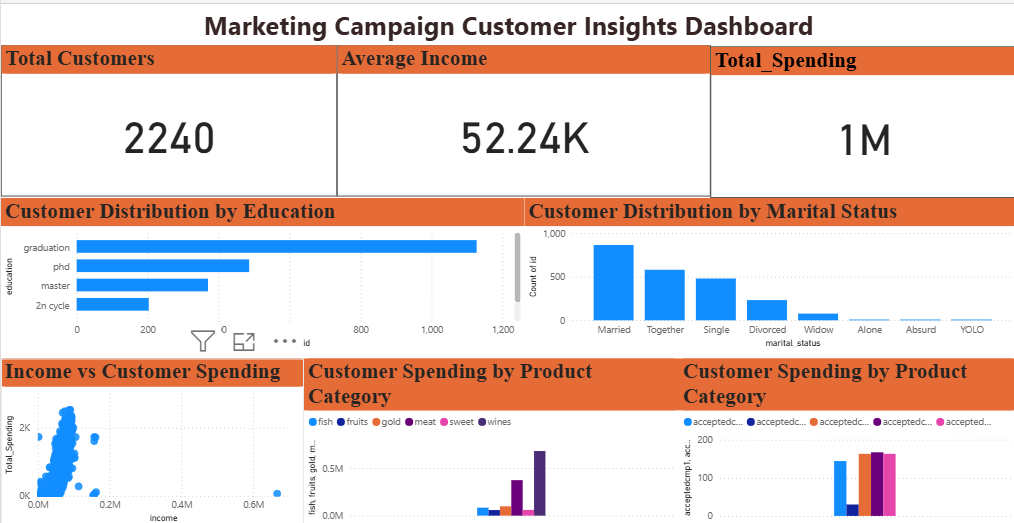

This screenshot's page, from the dashboard's own definition file:
{"tool":"powerbi","page":{"name":"Page 1","canvas":[1280,720],"ordinal":0},"visuals":[{"type":"card","title":"Total Customers","fields":{"Values":["CountNonNull(Sheet1.id)"]},"box":[0,113.4,423.3,190.9],"z":0},{"type":"card","title":"Average Income","fields":{"Values":["Avg(Sheet1.income)"]},"box":[423.3,113.4,470.6,190.9],"z":1000},{"type":"card","title":"Total_Spending","fields":{"Values":["Sum(Sheet1.Total_Spending)"]},"box":[893.9,115.3,385.5,190.9],"z":2000},{"type":"clusteredBarChart","title":"Customer Distribution by Education","fields":{"Category":["Sheet1.education"],"Y":["CountNonNull(Sheet1.id)"]},"box":[0,306.1,659.5,192.8],"z":3000},{"type":"columnChart","title":"Customer Distribution by Marital Status","fields":{"Category":["Sheet1.marital_status"],"Y":["CountNonNull(Sheet1.id)"]},"box":[659.5,306.1,619.8,192.8],"z":4000},{"type":"scatterChart","title":"Income vs Customer Spending","fields":{"X":["Sheet1.income"],"Y":["Sheet1.Total_Spending"]},"box":[0,508.4,381.7,211.7],"z":5000},{"type":"clusteredColumnChart","title":"Customer Spending by Product Category","fields":{"Y":["Sum(Sheet1.mntfishproducts)","Sum(Sheet1.mntfruits)","Sum(Sheet1.mntgoldprods)","Sum(Sheet1.mntmeatproducts)","Sum(Sheet1.mntsweetproducts)","Sum(Sheet1.mntwines)"]},"box":[381.7,508.4,472.4,211.7],"z":6000},{"type":"clusteredColumnChart","title":"Customer Spending by Product Category","fields":{"Y":["Sum(Sheet1.acceptedcmp1)","Sum(Sheet1.acceptedcmp2)","Sum(Sheet1.acceptedcmp3)","Sum(Sheet1.acceptedcmp4)","Sum(Sheet1.acceptedcmp5)"]},"box":[854,508,425,212],"z":7000},{"type":"textbox","box":[0,60.5,1279.4,52.9],"z":8000}]}

Visuals, with their boxes on the page's 1280x720 design canvas (x1, y1, x2, y2). These are canvas units, not pixel positions in the 1014x523 screenshot, which may show the page scaled, cropped or inside an application window:
"Total Customers" card: pyautogui.locateOnScreen(0, 113, 423, 304)
"Average Income" card: pyautogui.locateOnScreen(423, 113, 894, 304)
"Total_Spending" card: pyautogui.locateOnScreen(894, 115, 1279, 306)
"Customer Distribution by Education" clusteredBarChart: pyautogui.locateOnScreen(0, 306, 660, 499)
"Customer Distribution by Marital Status" columnChart: pyautogui.locateOnScreen(660, 306, 1279, 499)
"Income vs Customer Spending" scatterChart: pyautogui.locateOnScreen(0, 508, 382, 720)
"Customer Spending by Product Category" clusteredColumnChart: pyautogui.locateOnScreen(382, 508, 854, 720)
"Customer Spending by Product Category" clusteredColumnChart: pyautogui.locateOnScreen(854, 508, 1279, 720)
textbox: pyautogui.locateOnScreen(0, 60, 1279, 113)
